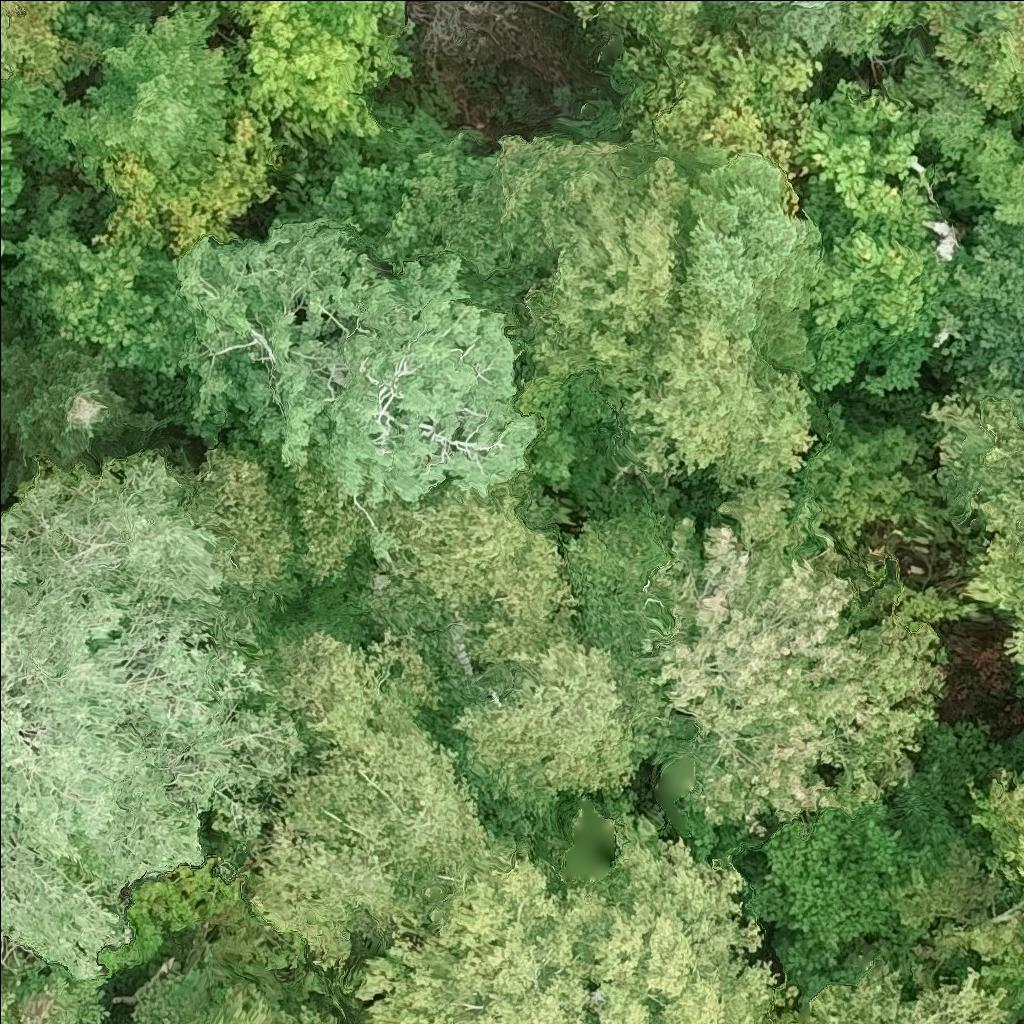crown: (0, 454, 294, 978), (632, 497, 976, 838), (174, 217, 544, 503), (178, 424, 580, 678), (357, 814, 798, 1023), (244, 630, 491, 963), (437, 133, 702, 428), (439, 520, 664, 839), (799, 81, 963, 393), (623, 298, 817, 545), (106, 38, 284, 258), (5, 183, 191, 378), (60, 0, 228, 192), (307, 105, 496, 270), (686, 155, 820, 368), (880, 38, 1023, 221), (893, 834, 1023, 1023), (788, 401, 952, 549), (230, 0, 388, 146), (0, 323, 152, 472), (843, 0, 1023, 112), (935, 218, 1023, 384), (968, 399, 1023, 660), (129, 958, 344, 1023), (807, 956, 1012, 1023), (0, 936, 109, 1023), (301, 0, 411, 79), (966, 768, 1023, 913), (728, 0, 860, 56), (410, 0, 511, 60), (572, 0, 708, 43), (5, 0, 68, 44), (953, 0, 1008, 17), (220, 0, 245, 7), (174, 0, 188, 0)
